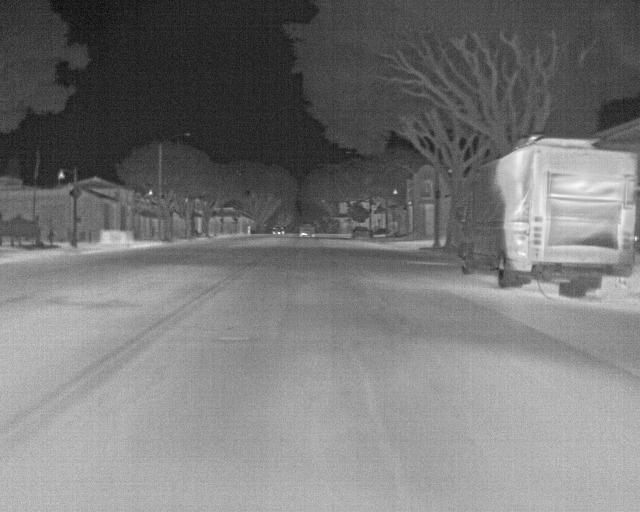car: (297, 221, 317, 238), (269, 223, 285, 237)
